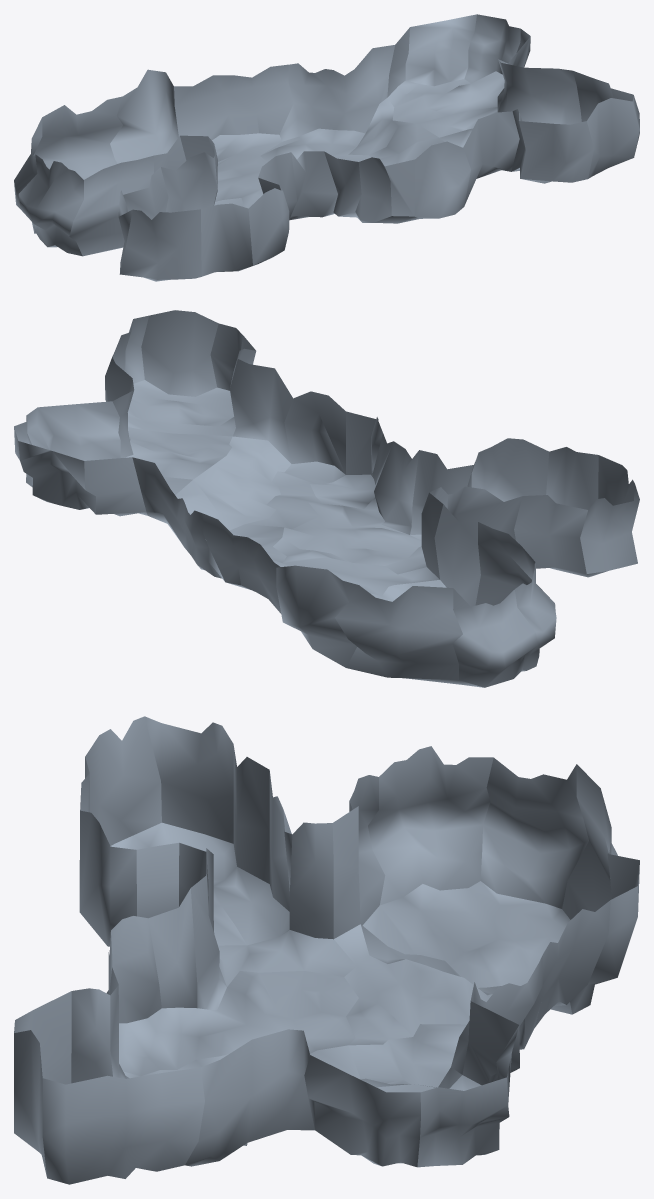
Rendered from AbyssGeo.fbx.
The picture shows the model from 3 angles, top to bottom: view 1: azimuth 30°, elevation 25°; view 2: azimuth 150°, elevation 25°; view 3: azimuth 270°, elevation 25°; orthographic projection. The views are drawn at different scales.
Parts seen in each view (by area): view 1: Abyss_Geo.025, Abyss_Geo.026, Abyss_Geo.042, Abyss_Geo.013, Abyss_Geo.023, Abyss_Geo.024, Abyss_Geo.020, Abyss_Geo.021, Abyss_Geo.003, Abyss_Geo.033, Abyss_Geo.028, Abyss_Geo.004 (+25 smaller); view 2: Abyss_Geo.023, Abyss_Geo.011, Abyss_Geo.022, Abyss_Geo.002, Abyss_Geo.031, Abyss_Geo.024, Abyss_Geo.001, Abyss_Geo.008, Abyss_Geo.044, Abyss_Geo.035, Abyss_Geo.004, Abyss_Geo.007 (+25 smaller); view 3: Abyss_Geo.032, Abyss_Geo.011, Abyss_Geo.021, Abyss_Geo.017, Abyss_Geo.022, Abyss_Geo.003, Abyss_Geo.015, Abyss_Geo.001, Abyss_Geo.043, Abyss_Geo.042, Abyss_Geo, Abyss_Geo.006 (+25 smaller).
Boxes of the visible parts, box(x1,y1,x2,y2) form: Abyss_Geo.025: box(174, 64, 293, 140); Abyss_Geo.026: box(279, 45, 394, 141); Abyss_Geo.042: box(120, 209, 201, 279); Abyss_Geo.013: box(387, 71, 504, 137); Abyss_Geo.023: box(33, 96, 122, 179); Abyss_Geo.024: box(110, 69, 178, 163); Abyss_Geo.020: box(69, 155, 153, 256); Abyss_Geo.021: box(18, 155, 83, 256); Abyss_Geo.003: box(498, 59, 581, 124); Abyss_Geo.033: box(519, 121, 593, 182); Abyss_Geo.028: box(405, 14, 476, 86); Abyss_Geo.004: box(414, 141, 470, 218); Abyss_Geo.023: box(335, 581, 462, 679); Abyss_Geo.011: box(282, 474, 421, 565); Abyss_Geo.022: box(453, 588, 537, 687); Abyss_Geo.002: box(141, 310, 218, 396); Abyss_Geo.031: box(193, 436, 291, 530); Abyss_Geo.024: box(276, 565, 356, 667); Abyss_Geo.001: box(26, 401, 120, 460); Abyss_Geo.008: box(127, 380, 235, 436); Abyss_Geo.044: box(514, 495, 587, 573); Abyss_Geo.035: box(230, 359, 292, 463); Abyss_Geo.004: box(284, 391, 345, 474); Abyss_Geo.007: box(471, 438, 549, 501); Abyss_Geo.032: box(42, 1067, 204, 1184); Abyss_Geo.011: box(119, 971, 358, 1076); Abyss_Geo.021: box(368, 746, 493, 905); Abyss_Geo.017: box(362, 881, 570, 987); Abyss_Geo.022: box(480, 758, 588, 908); Abyss_Geo.003: box(185, 1029, 314, 1166); Abyss_Geo.015: box(334, 924, 565, 1045); Abyss_Geo.001: box(304, 1055, 420, 1166); Abyss_Geo.043: box(145, 716, 233, 843); Abyss_Geo.042: box(85, 716, 161, 845); Abyss_Geo: box(110, 822, 289, 945); Abyss_Geo.006: box(179, 822, 333, 986).
Bounding box in the file's own units: 50270 × 12444 × 32407.
